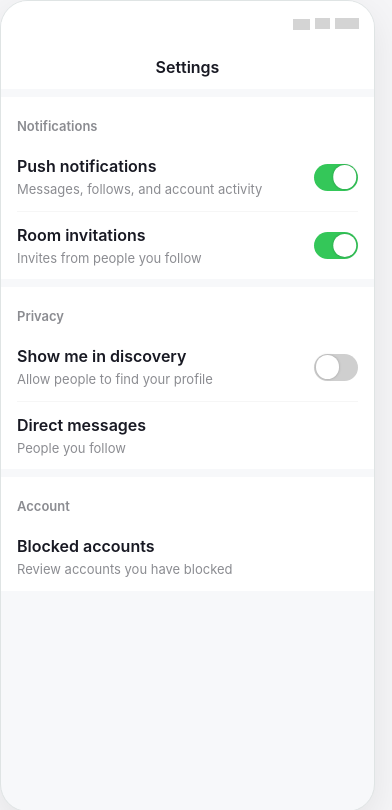
it: MeSecondaryPrototype › updates settings and uses light status content in dark mode
The width and height of the screenshot is (392, 810).
Click the switch labelled "Push notifications Messages, follows, and account activity": (336,177) [314,164,358,190]
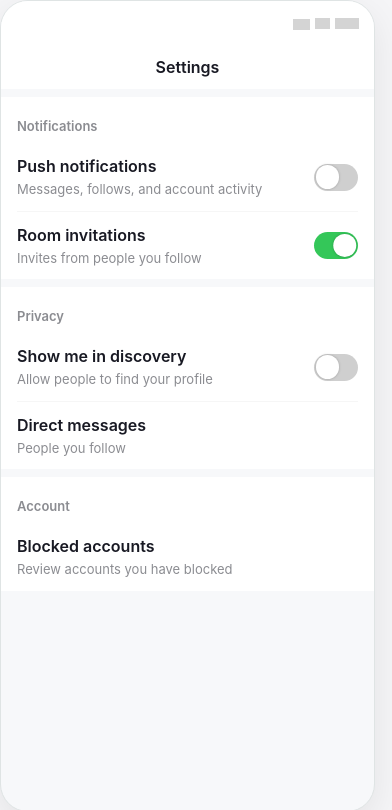
Check: the switch labelled "Push notifications Messages, follows, and account activity" is not checked, box [314,164,358,190]
Click the button "Direct messages People you follow": (82,424) [17,401,358,469]
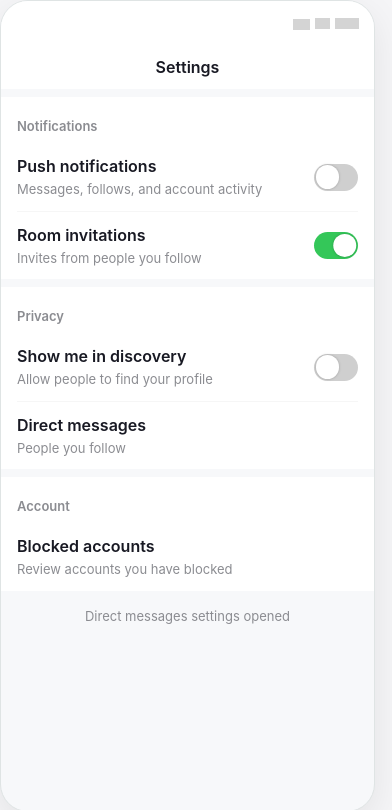
Check: the message reads "Direct messages settings opened", box [85,608,290,624]
